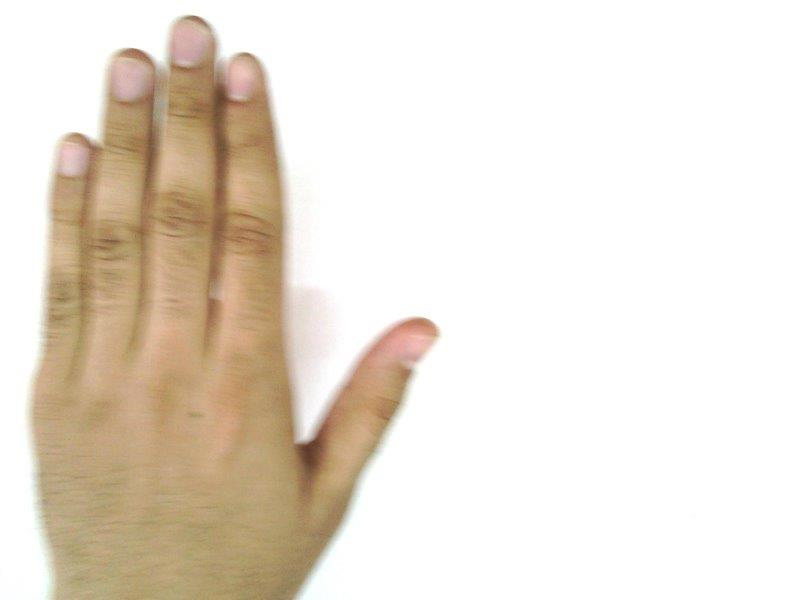hand: (31, 16, 440, 600)
